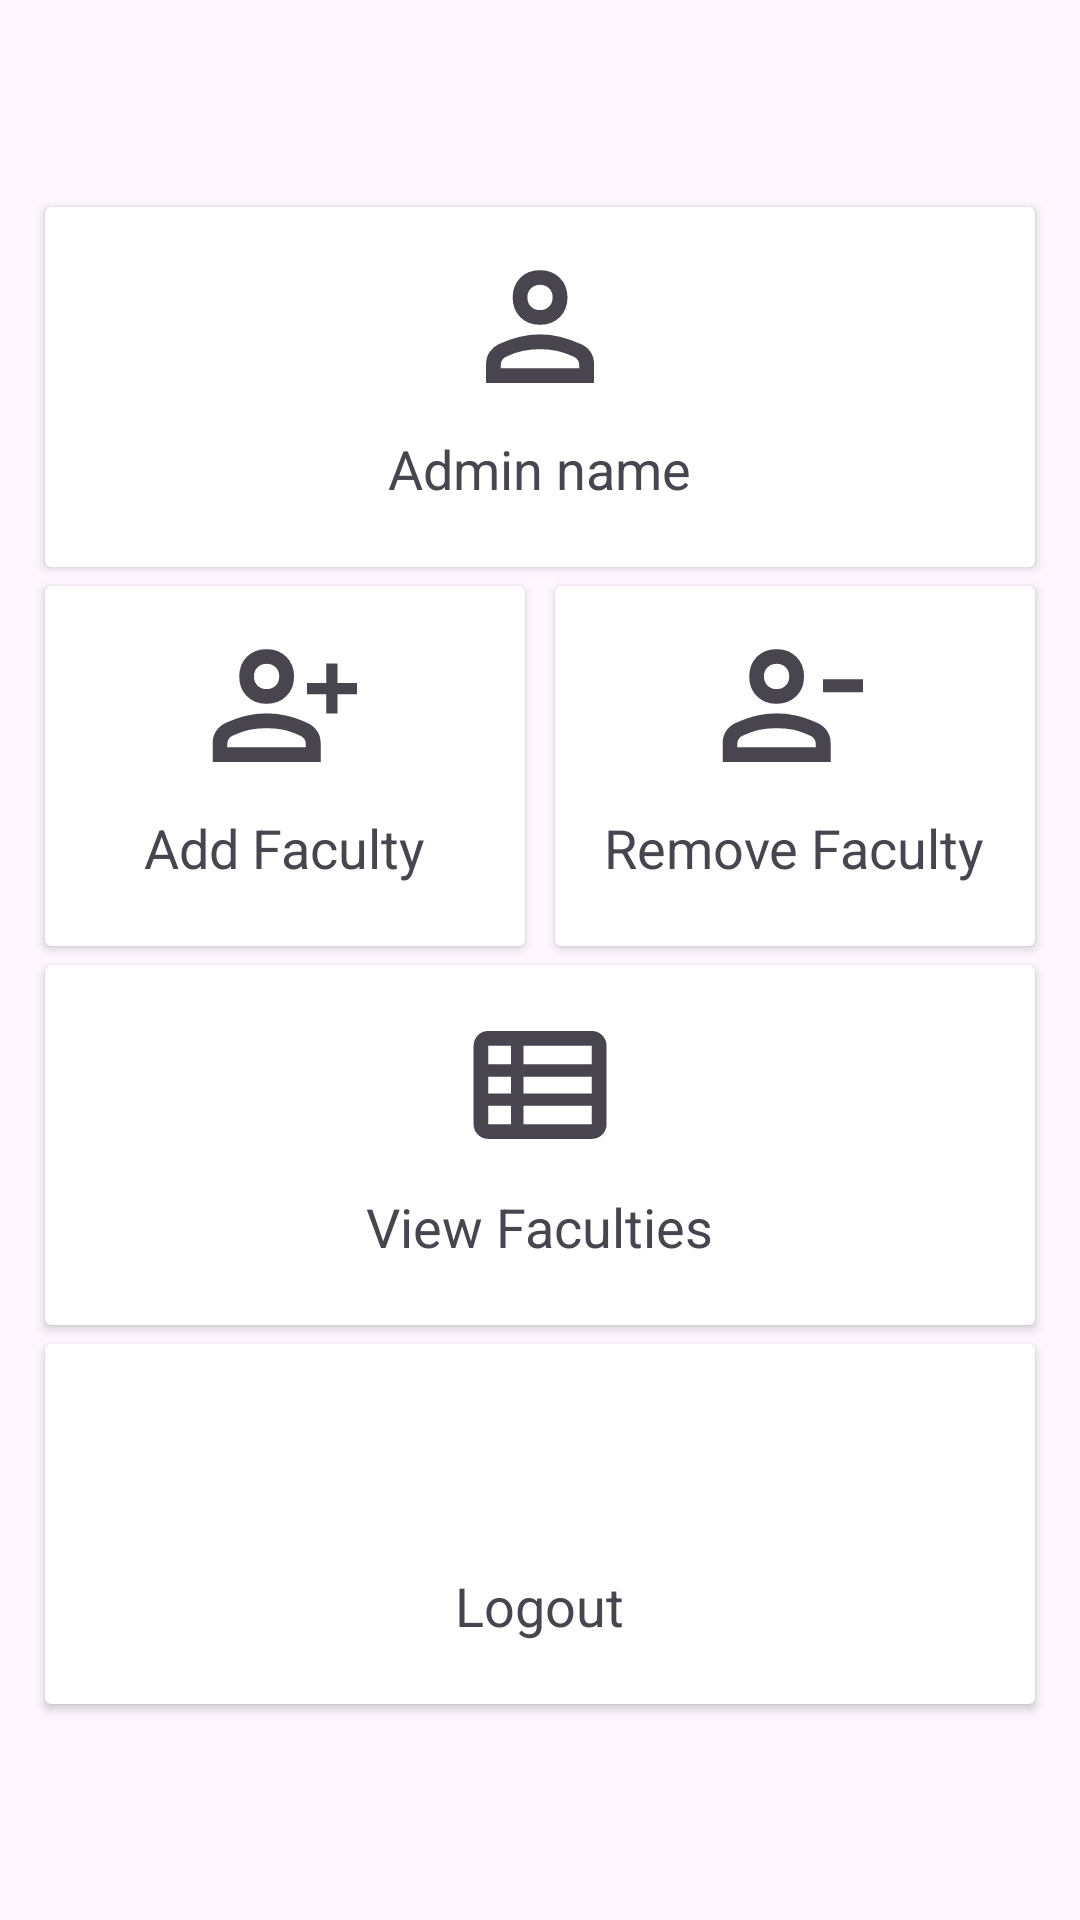

Icon click points for this 1080w x 1920h phone screenshot, format (x=x, y=y):
add admin: (x=284, y=705)
user: (x=540, y=326)
